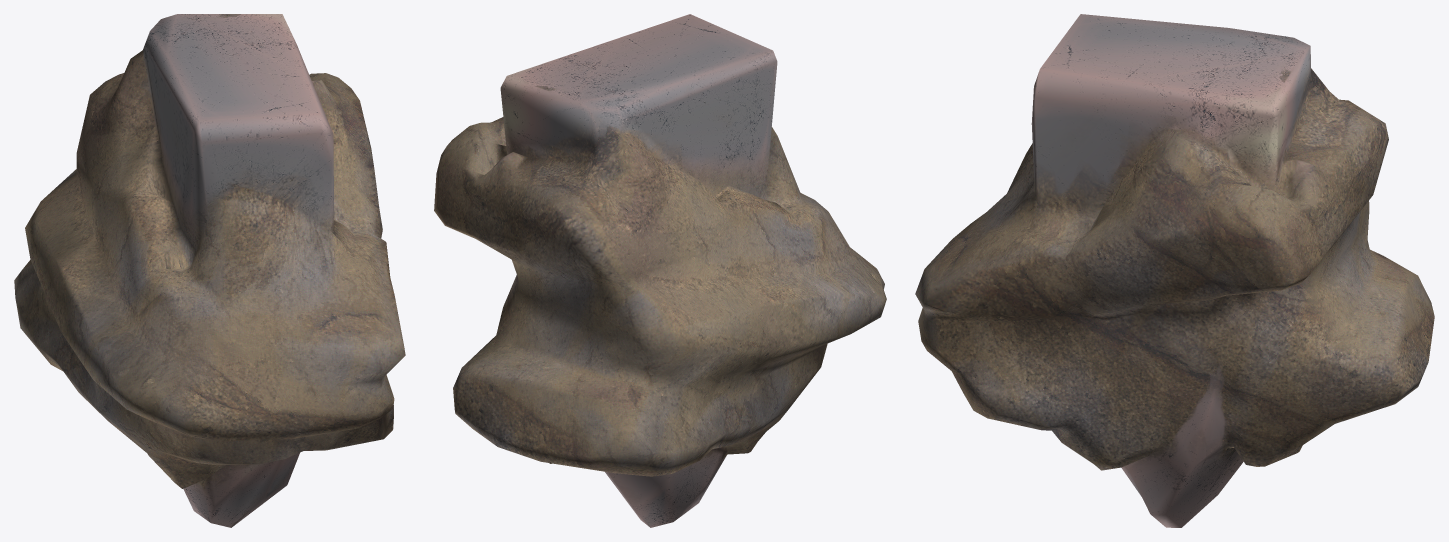
File: SM_Mineral_5.fbx
3 views of the same model, side by side, from view 1: azimuth 30°, elevation 25°; view 2: azimuth 150°, elevation 25°; view 3: azimuth 270°, elevation 25° (orthographic). The views are drawn at different scales.
Visible parts, largest first — view 1: SM_Mineral_5; view 2: SM_Mineral_5; view 3: SM_Mineral_5.
Part boxes in pixels (x1,y1,x2,y2): SM_Mineral_5: (14, 14, 405, 527); SM_Mineral_5: (434, 14, 886, 527); SM_Mineral_5: (915, 14, 1434, 527).
Size of the model in its own units: 0.7281 by 0.9545 by 0.9277.
